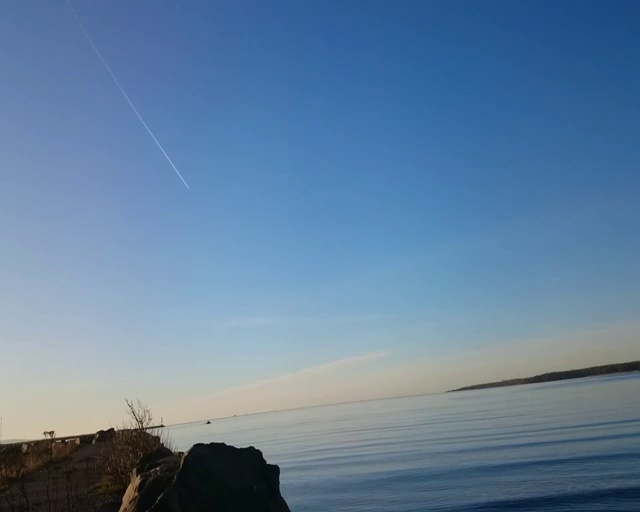AIRPLANE: (57, 4, 195, 193)
